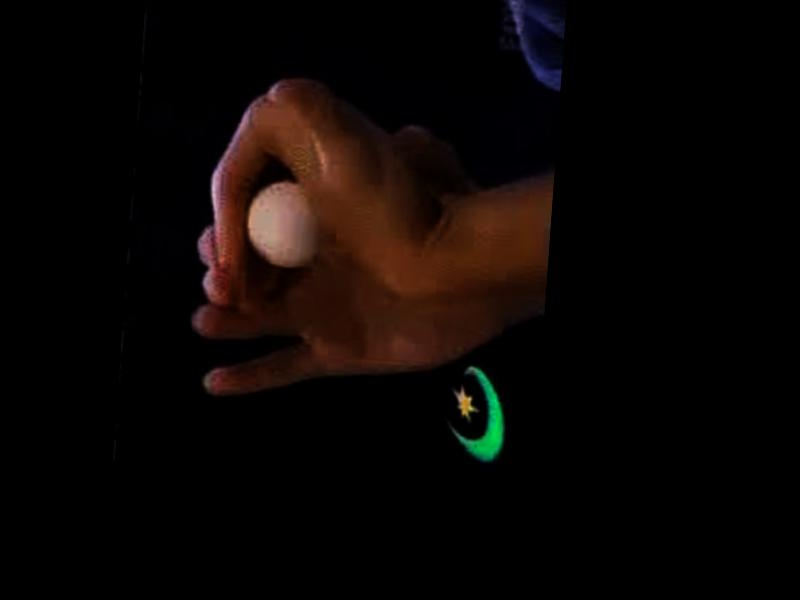Eggs: (241, 175, 316, 271)
